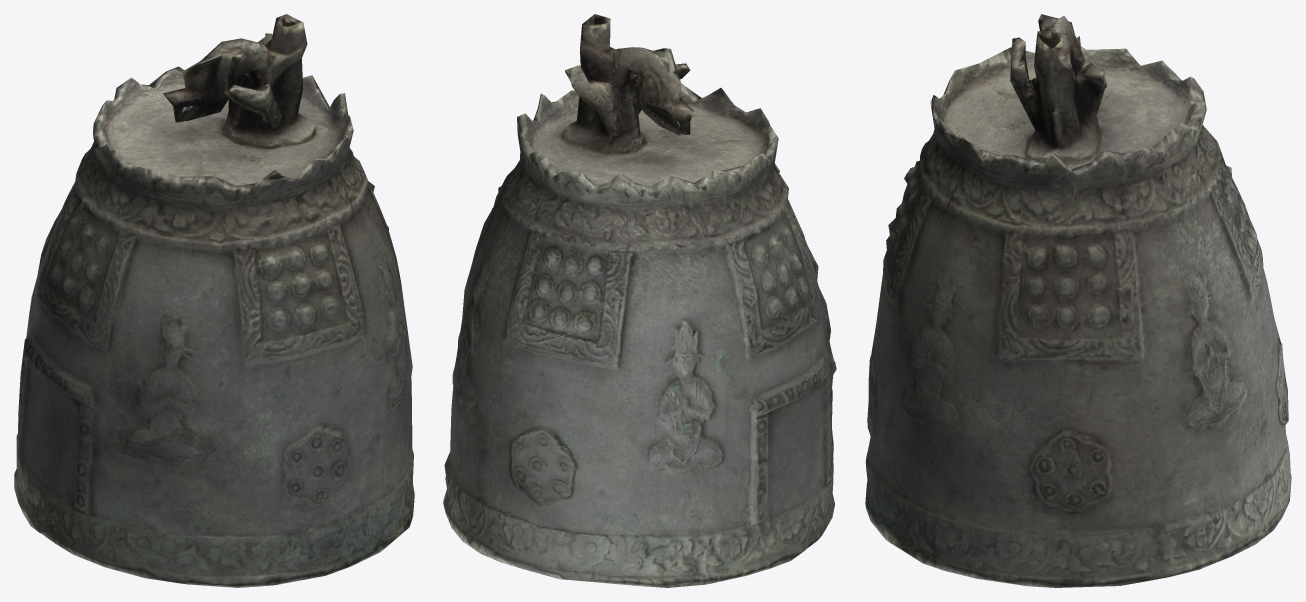
Rendered from SM_Bronze_Bell.fbx.
3 views of the same model, side by side, from view 1: azimuth 30°, elevation 25°; view 2: azimuth 150°, elevation 25°; view 3: azimuth 270°, elevation 25° (orthographic). The views are drawn at different scales.
Parts seen in each view (by area): view 1: KCDF_2022_prop_Bronze_Bell_Mesh; view 2: KCDF_2022_prop_Bronze_Bell_Mesh; view 3: KCDF_2022_prop_Bronze_Bell_Mesh.
Part boxes in pixels (box(x1,y1,x2,y2)): KCDF_2022_prop_Bronze_Bell_Mesh: box(14, 14, 414, 587); KCDF_2022_prop_Bronze_Bell_Mesh: box(443, 14, 836, 587); KCDF_2022_prop_Bronze_Bell_Mesh: box(865, 14, 1291, 587).
Size of the model in its own units: 28.87 by 38.45 by 29.64.
1 material, 1 textured.
